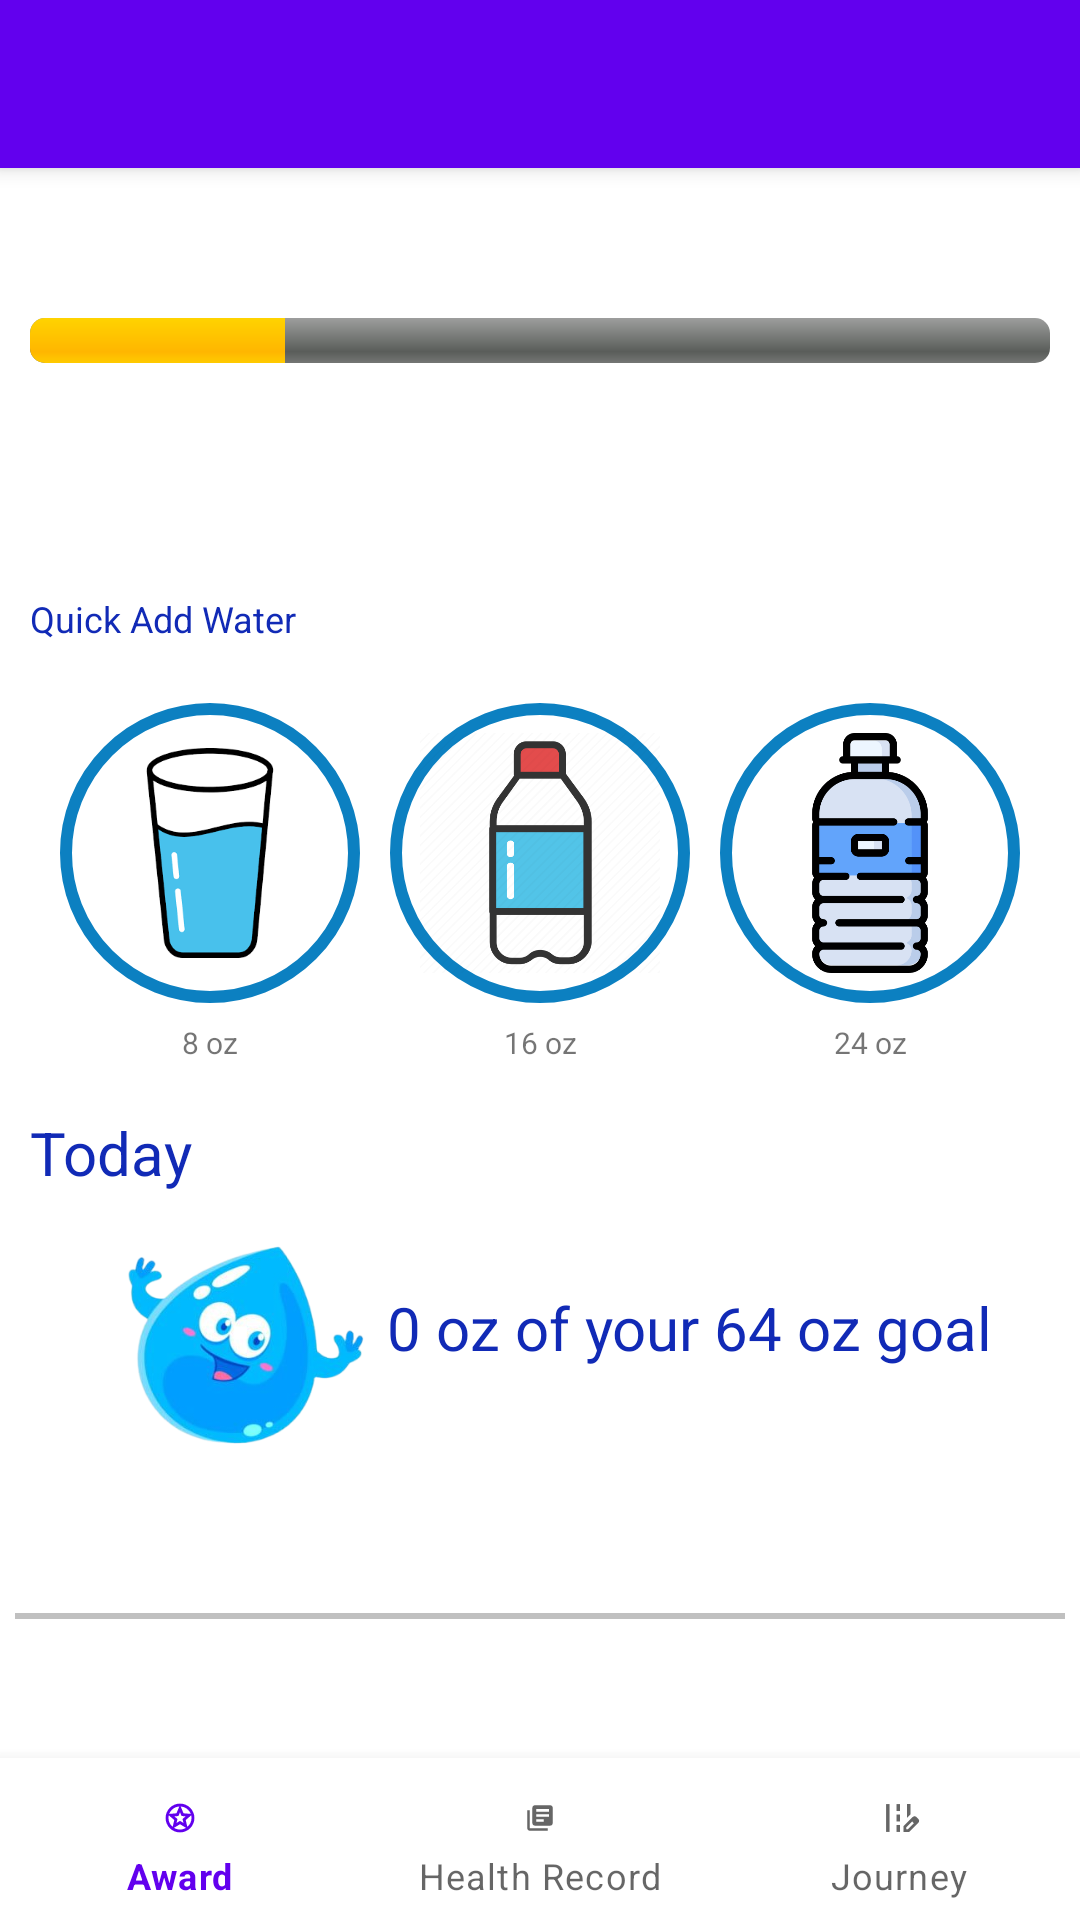

Icon click points for this 1080px x 1920px phone screenshot, format [x,y]:
bottle water: [540,853]
glass water: [210,853]
water bottle: [870,853]
